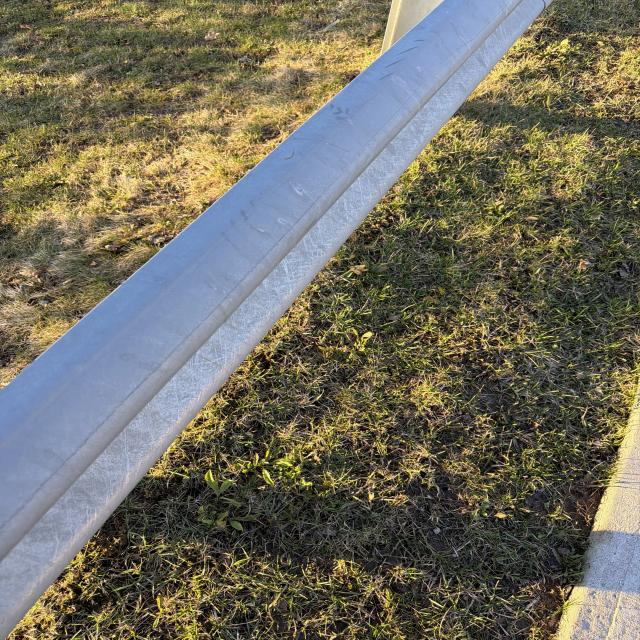Guard rail: (18, 22, 538, 603)
